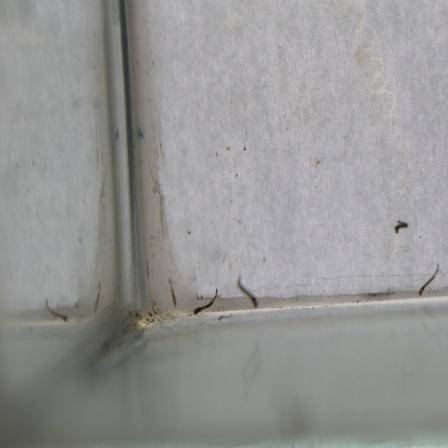Jentik-Nyamuk: (192, 285, 223, 317), (392, 217, 410, 235)
